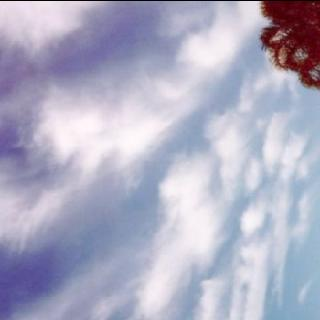Cirrus: (0, 6, 306, 320)
